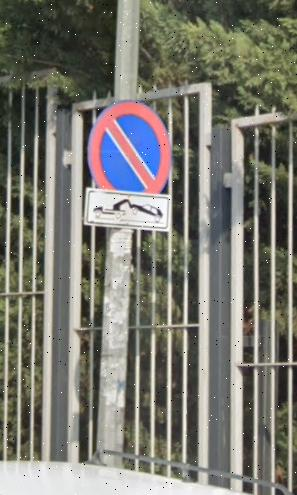nopark: (90, 101, 171, 191)
